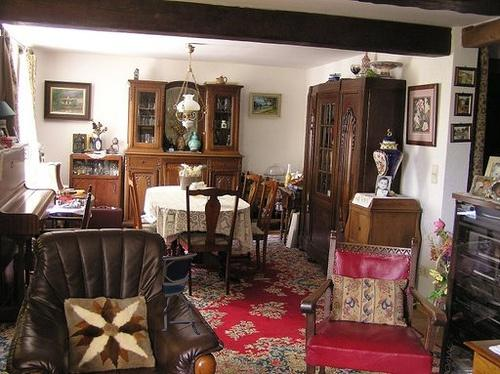tampered: (163, 253, 200, 335)
